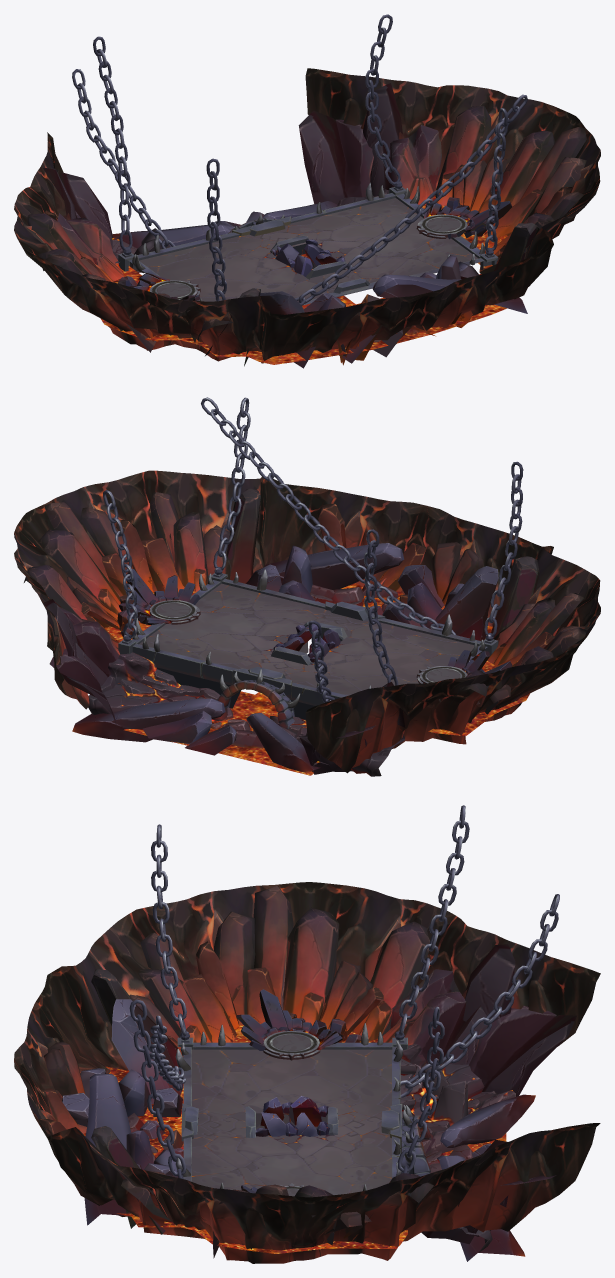
The model's file is hell_atlas.fbx.
3 views of the same model, one above another, from view 1: azimuth 30°, elevation 25°; view 2: azimuth 150°, elevation 25°; view 3: azimuth 270°, elevation 25° (orthographic). The views are drawn at different scales.
Visible parts, largest first — view 1: ad_atlas; view 2: ad_atlas; view 3: ad_atlas.
Boxes of the visible parts, x1,y1,x2,y2 form: ad_atlas: [14, 14, 600, 368]; ad_atlas: [14, 397, 600, 776]; ad_atlas: [14, 805, 600, 1263].
Bounding box in the file's own units: 5211 × 2326 × 4098.
